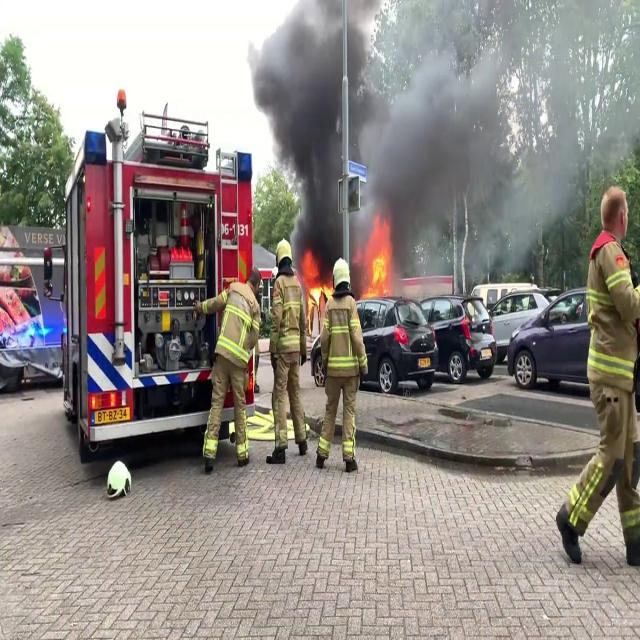Fire: (364, 225, 394, 299), (302, 255, 332, 312)
Smoke: (248, 1, 638, 262)
